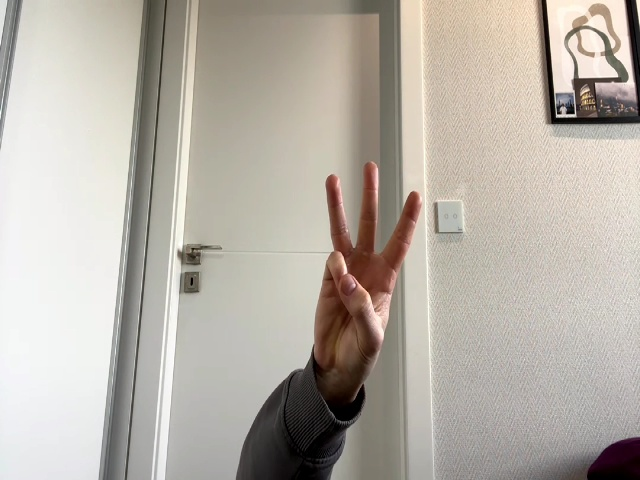W: (312, 162, 421, 376)
